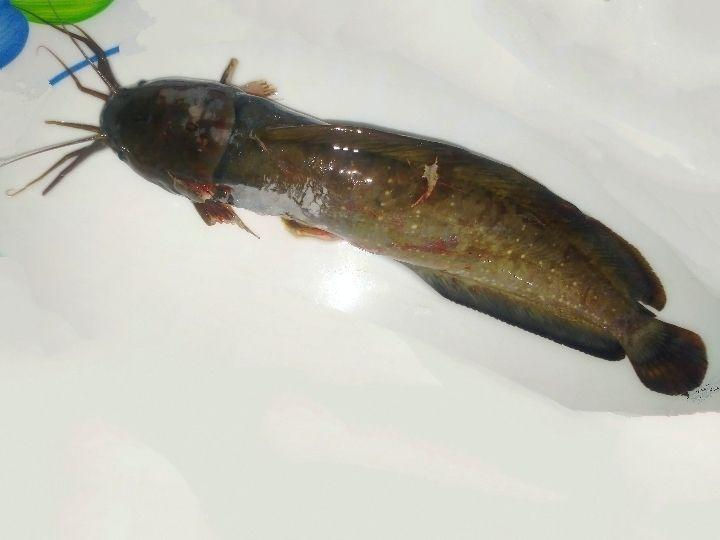Catfish: (0, 0, 719, 404)
